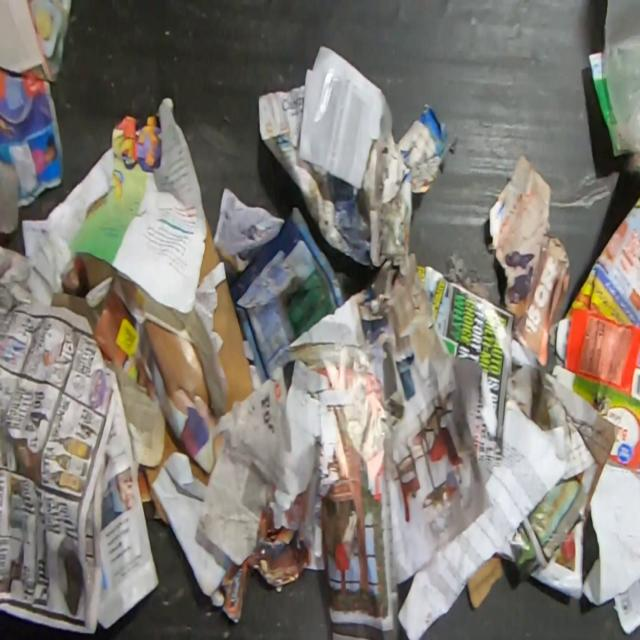cardboard: (140, 221, 258, 428), (466, 553, 505, 609), (77, 253, 119, 289), (86, 192, 108, 218)
soft_plastic: (603, 0, 640, 160)
